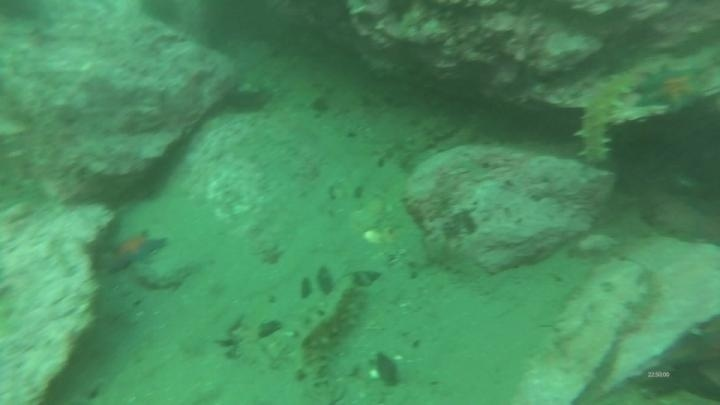echinus: (137, 1, 186, 30)
holothurian: (293, 278, 370, 385), (572, 64, 648, 170), (395, 112, 461, 160)
starfish: (633, 62, 710, 117), (99, 226, 170, 276)
